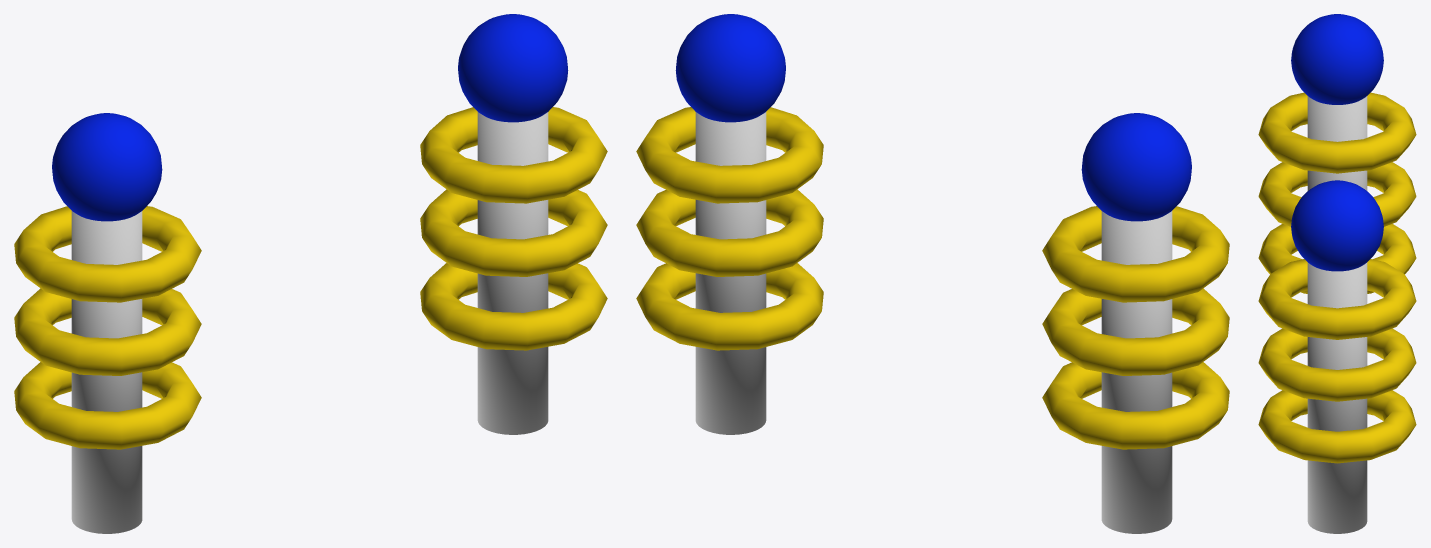
Rendered from electric_pin.fbx.
The picture shows the model from 3 angles, left to right: view 1: azimuth 30°, elevation 25°; view 2: azimuth 150°, elevation 25°; view 3: azimuth 270°, elevation 25°; orthographic projection. The views are drawn at different scales.
Parts seen in each view (by area): view 1: electric_pin; view 2: electric_pin; view 3: electric_pin.
Part boxes in pixels (left/top/right/bottom): electric_pin: left=14, top=14, right=607, bottom=533; electric_pin: left=636, top=14, right=1229, bottom=533; electric_pin: left=1258, top=14, right=1416, bottom=533.
Size of the model in its own units: 17.31 by 11.68 by 4.97.
